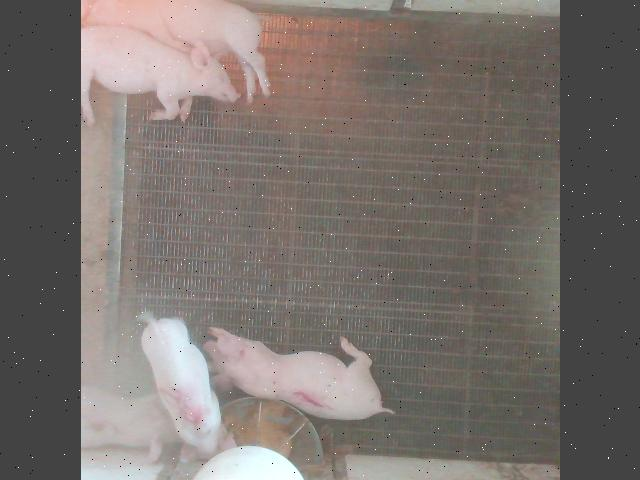pig-1: (204, 328, 392, 420)
pig-3: (82, 386, 180, 460)
pig-5: (141, 318, 234, 459)
